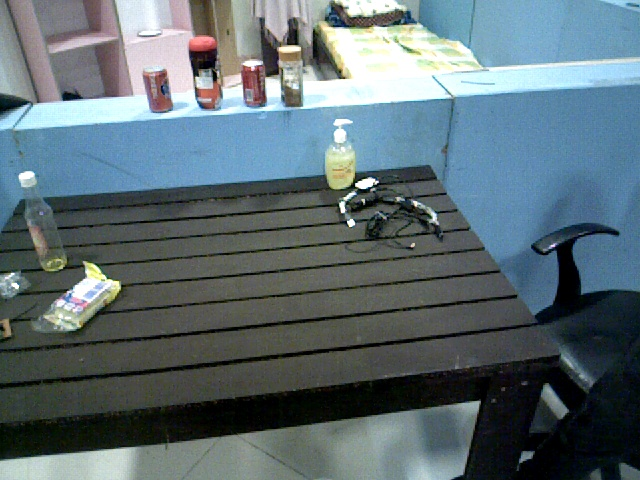coca: (242, 59, 269, 109)
coffee: (278, 46, 306, 109)
cream: (190, 37, 225, 111)
fanta: (142, 64, 173, 115)
